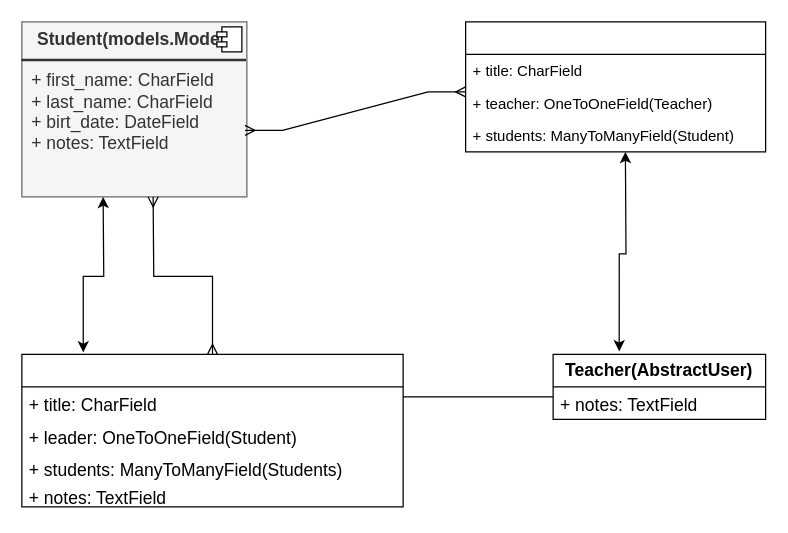
This 788x533 diagram has some shape labels left out. Here are the shapes that lost their labels. From the top down, the box of each, then its label:
(464, 21, 766, 152): Subject(models.Model)
(21, 353, 403, 507): Group(models.Model)
